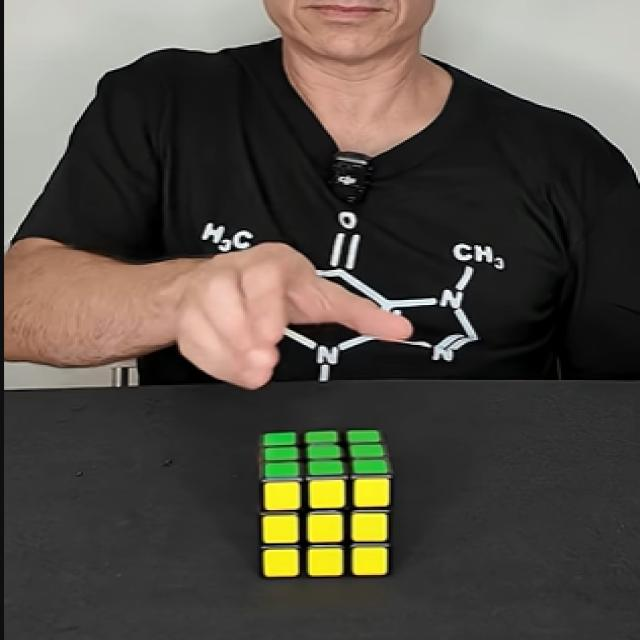Cubo-Resuelto: (259, 428, 393, 573)
